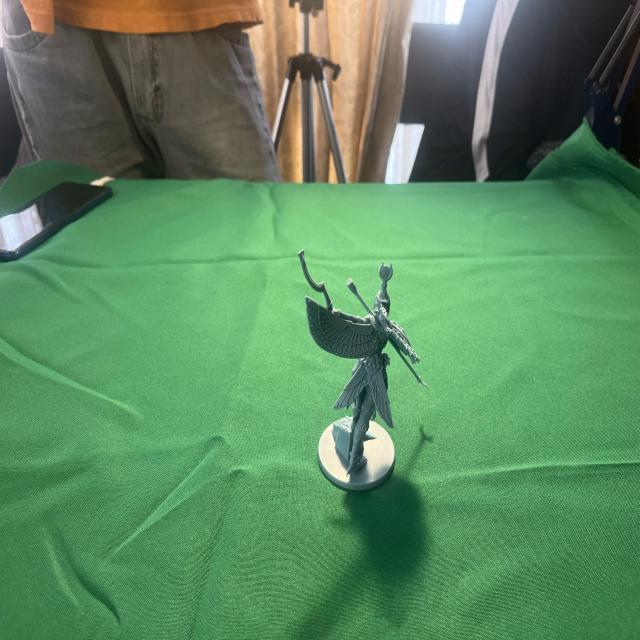isis: (286, 232, 436, 504)
